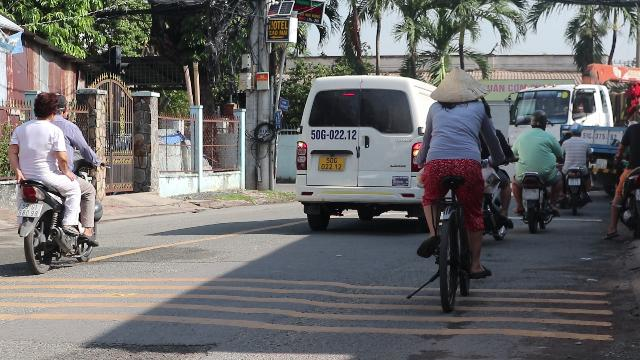helmet: (528, 109, 548, 128)
licenseplate: (18, 204, 42, 217), (524, 189, 538, 199)
motorcyclist: (7, 90, 104, 270), (510, 110, 562, 232)
nohelmet: (31, 91, 58, 121), (55, 93, 69, 117)
